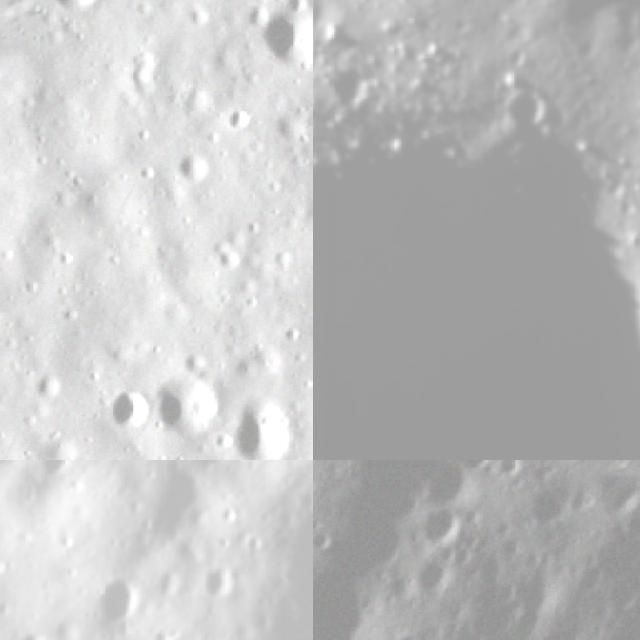crater: (158, 460, 313, 640), (313, 538, 403, 640), (142, 362, 237, 458), (75, 556, 163, 640), (214, 390, 313, 460), (244, 0, 313, 89), (404, 494, 478, 567), (94, 378, 164, 451), (164, 460, 295, 499), (511, 475, 580, 542), (134, 552, 199, 617), (164, 140, 226, 200), (190, 557, 250, 619), (404, 548, 464, 609), (23, 362, 76, 415), (501, 77, 550, 132), (330, 60, 384, 106), (43, 0, 120, 30), (204, 234, 250, 281), (216, 98, 260, 144), (235, 524, 278, 569), (40, 608, 97, 640), (515, 618, 594, 640), (178, 0, 220, 38), (24, 460, 81, 487), (206, 494, 244, 532), (313, 519, 344, 565), (294, 219, 313, 294), (486, 460, 530, 489), (142, 619, 188, 640), (8, 623, 57, 640)
